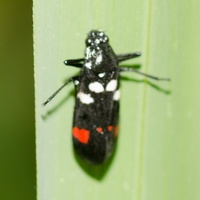insect: (43, 30, 169, 164)
